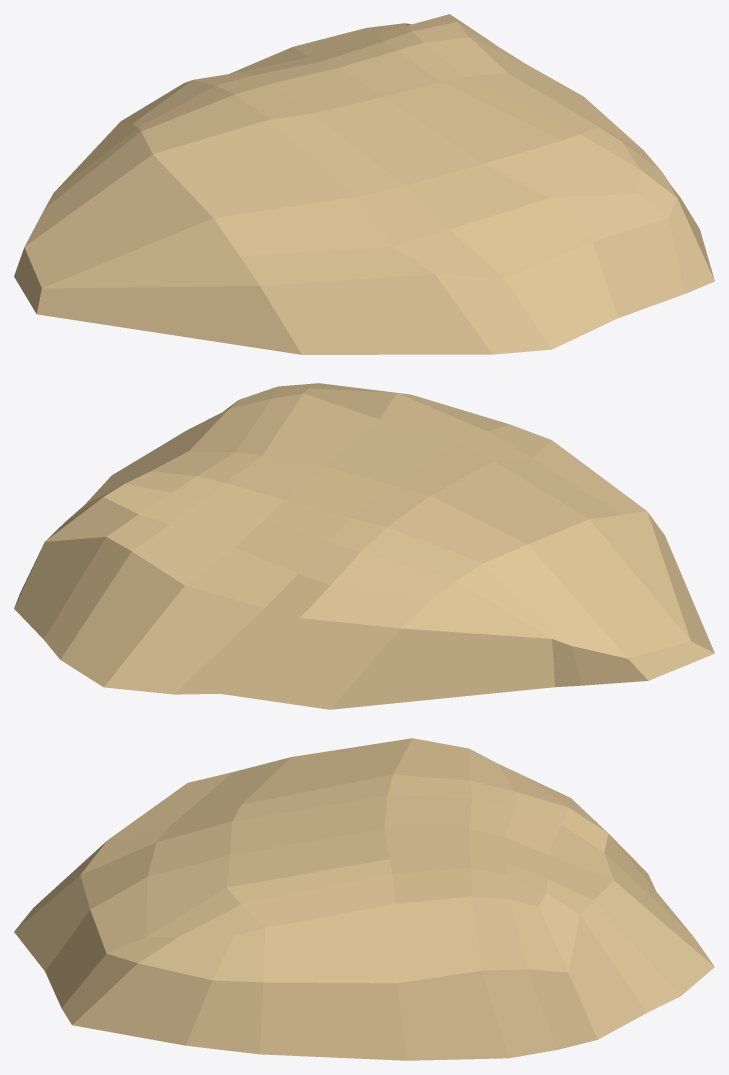
Rendered from Sand_5_low.fbx.
The picture shows the model from 3 angles, top to bottom: view 1: azimuth 30°, elevation 25°; view 2: azimuth 150°, elevation 25°; view 3: azimuth 270°, elevation 25°; orthographic projection.
Visible parts, largest first — view 1: Sand_5_low; view 2: Sand_5_low; view 3: Sand_5_low.
Part boxes in pixels (box(x1,y1,x2,y2)): Sand_5_low: box(14, 14, 714, 354); Sand_5_low: box(14, 383, 714, 709); Sand_5_low: box(14, 738, 714, 1060).
Bounding box in the file's own units: 0.5841 × 0.1129 × 0.5911.
